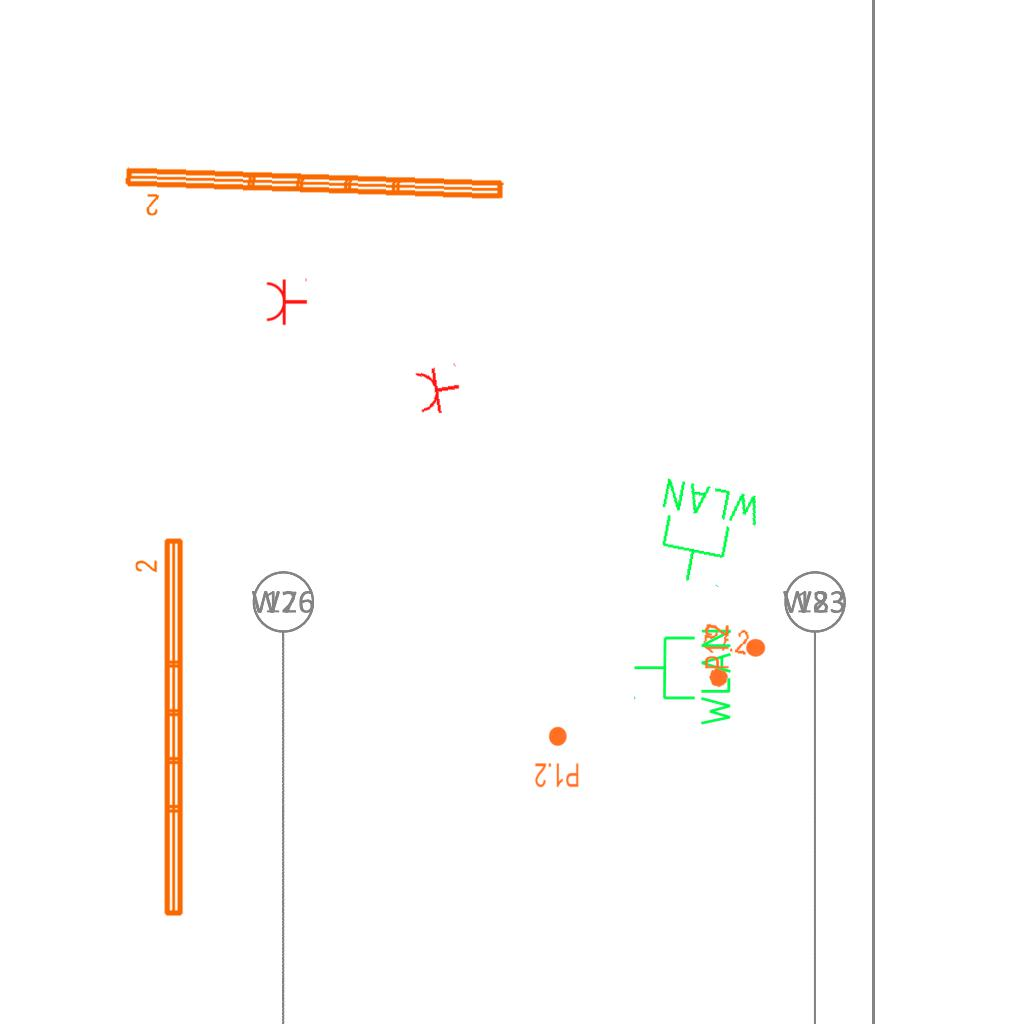Ambulanz_Pendelleuchte_LED: (120, 161, 509, 231), (133, 534, 189, 921)
Downlight_LED_Einbauleuchten_Flur: (694, 621, 752, 693), (534, 725, 580, 789), (703, 624, 767, 670)
Schukosteckdose_einfach: (413, 360, 464, 418), (265, 276, 308, 326)
WLAN: (644, 473, 768, 596), (631, 625, 735, 730)
